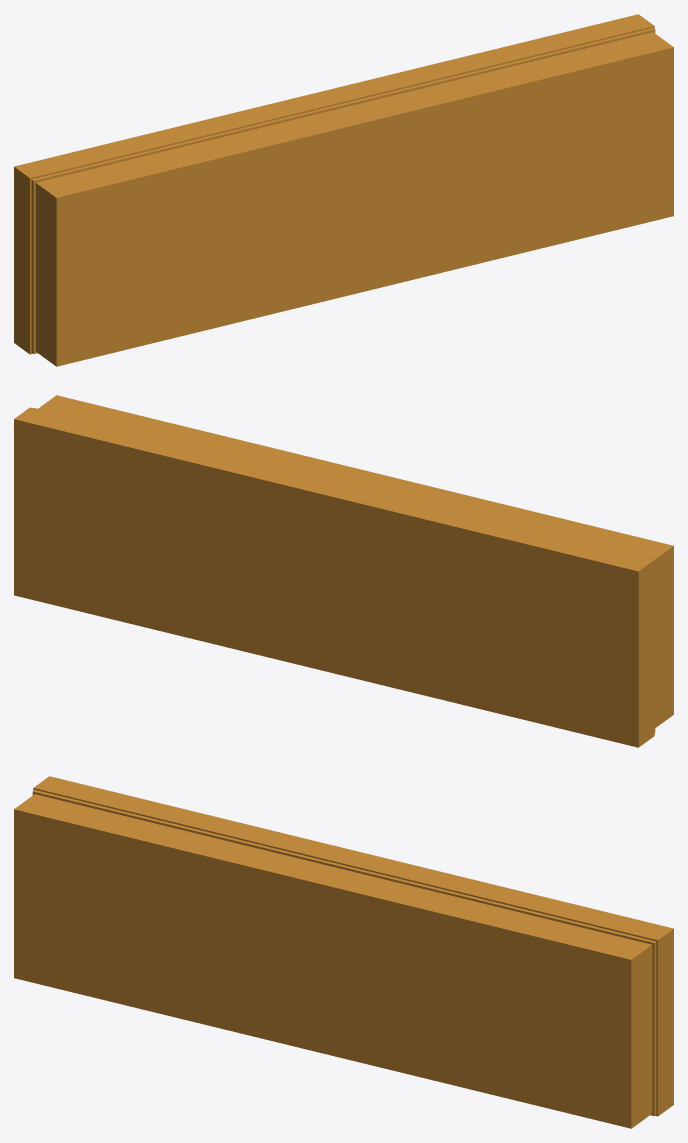
Rendered from SM_sign_storefront_01.fbx.
3 views of the same model, one above another, from view 1: azimuth 30°, elevation 25°; view 2: azimuth 150°, elevation 25°; view 3: azimuth 330°, elevation 25° (orthographic).
Parts seen in each view (by area): view 1: Box074; view 2: Box074; view 3: Box074.
Part boxes in pixels (bbox=[...]): Box074: bbox=[14, 14, 673, 366]; Box074: bbox=[14, 395, 673, 747]; Box074: bbox=[14, 776, 673, 1128].
Bounding box in the file's own units: 201 × 21.76 × 54.27.
